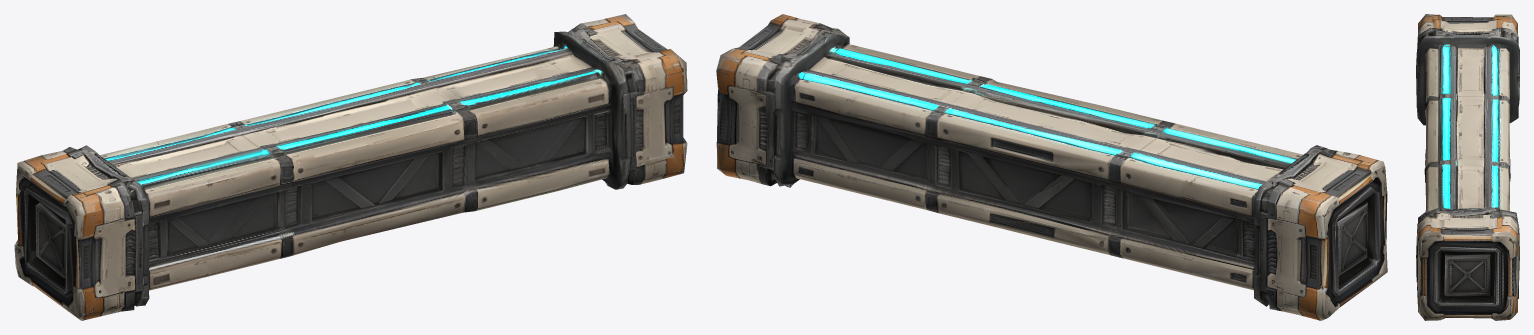
The model's file is energy-conduit-straight.glb.
3 renders of one model, left to right at view 1: azimuth 30°, elevation 25°; view 2: azimuth 150°, elevation 25°; view 3: azimuth 270°, elevation 25°, orthographic. The views are drawn at different scales.
Parts seen in each view (by area): view 1: energy-conduit-straight; view 2: energy-conduit-straight; view 3: energy-conduit-straight.
Boxes of the visible parts, <box> form: energy-conduit-straight: <box>14,14,687,320</box>; energy-conduit-straight: <box>716,14,1387,320</box>; energy-conduit-straight: <box>1416,14,1519,320</box>.
Size of the model in its own units: 4 by 0.798 by 0.792.
Materials: 1 (1 with a texture image).
